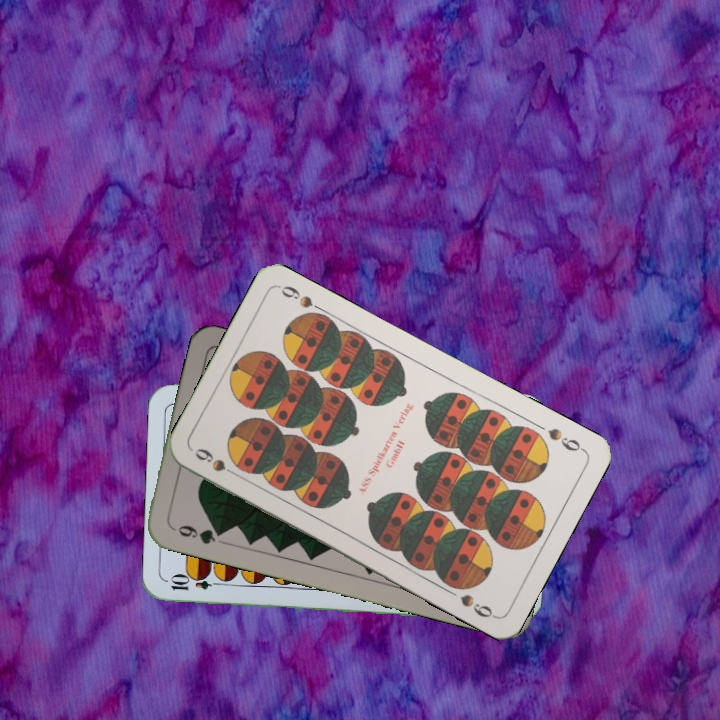E10: (167, 574, 226, 593)
G9: (167, 521, 227, 547)
S9: (190, 443, 244, 481), (544, 424, 587, 454)
